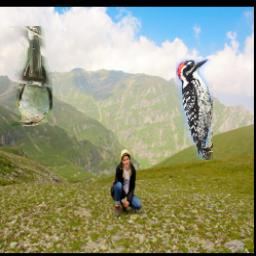Cuckoo: (9, 26, 52, 126)
Woodpecker: (176, 60, 213, 161)
